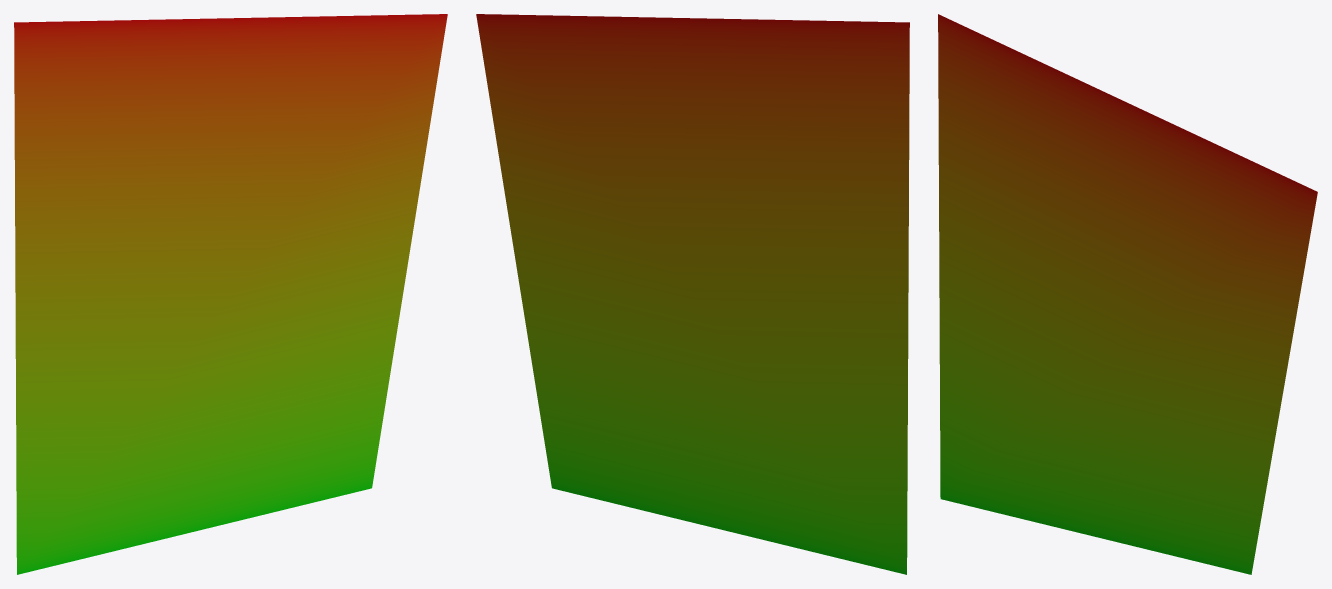
Rendered from Cast - Iron Plant_LOD3_Var3_shdmr.fbx.
3 views of the same model, side by side, from view 1: azimuth 30°, elevation 25°; view 2: azimuth 150°, elevation 25°; view 3: azimuth 330°, elevation 25° (orthographic). The views are drawn at different scales.
Parts seen in each view (by area): view 1: _b6a9_Var3_LOD3; view 2: _b6a9_Var3_LOD3; view 3: _b6a9_Var3_LOD3.
Part boxes in pixels (bbox=[...]): _b6a9_Var3_LOD3: bbox=[14, 14, 447, 574]; _b6a9_Var3_LOD3: bbox=[476, 14, 909, 574]; _b6a9_Var3_LOD3: bbox=[938, 14, 1317, 574].
Size of the model in its own units: 77.35 by 94.27 by 1.35e-05.
